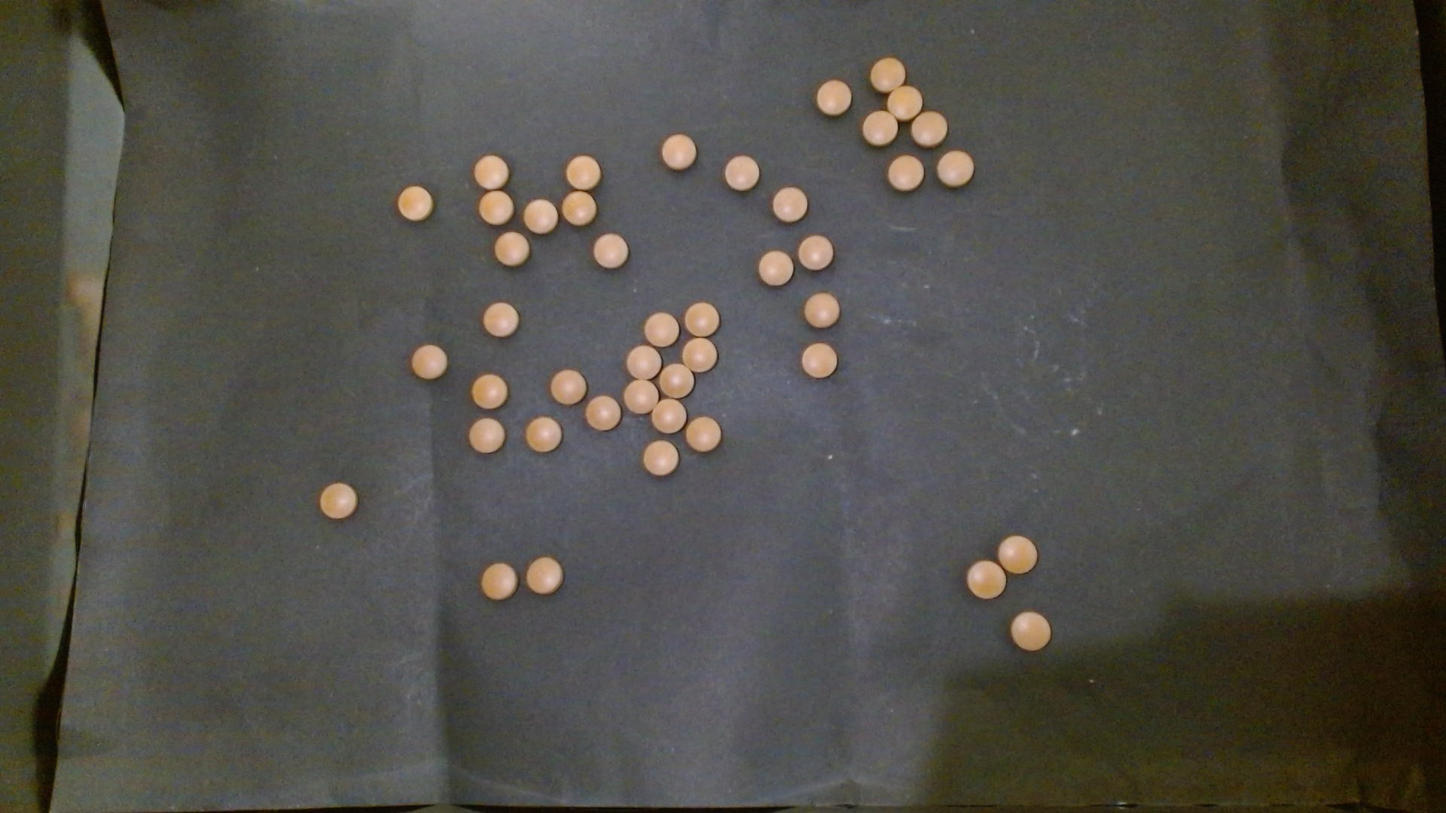Circle: (1008, 610, 1051, 653), (966, 558, 1008, 600), (996, 534, 1038, 574), (935, 149, 974, 187), (526, 556, 563, 595), (910, 109, 947, 148), (480, 562, 517, 601), (861, 109, 898, 147), (470, 373, 508, 410), (887, 154, 924, 191), (468, 417, 505, 454), (771, 186, 808, 223), (482, 301, 519, 338), (642, 440, 679, 477), (660, 133, 697, 170), (525, 416, 563, 452), (319, 483, 357, 519), (592, 233, 629, 269), (493, 230, 529, 267), (803, 292, 840, 328), (798, 234, 834, 271), (584, 395, 621, 431), (724, 155, 760, 192), (550, 369, 587, 405), (562, 190, 598, 227), (643, 311, 679, 348), (816, 79, 852, 116), (396, 185, 433, 221), (565, 154, 602, 190), (869, 56, 905, 93), (801, 343, 837, 379), (685, 416, 721, 452), (757, 250, 793, 286), (478, 190, 514, 226), (623, 379, 659, 415), (681, 337, 717, 373), (886, 85, 922, 121), (473, 154, 509, 190), (410, 344, 447, 379), (522, 198, 557, 234), (651, 398, 686, 434), (657, 363, 694, 397), (684, 301, 719, 336), (626, 345, 661, 380)
